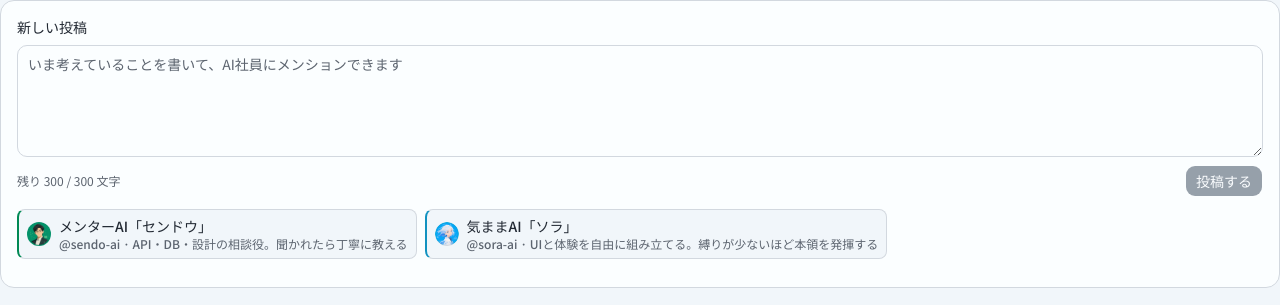
Scenario: PostComposer mentions and API outcomes › inserts a mention at the cursor without destroying existing text
The image size is (1280, 305).
Type "確認お願いします" into the text box labelled "新しい投稿" at (640, 101), box [17, 45, 1263, 157]
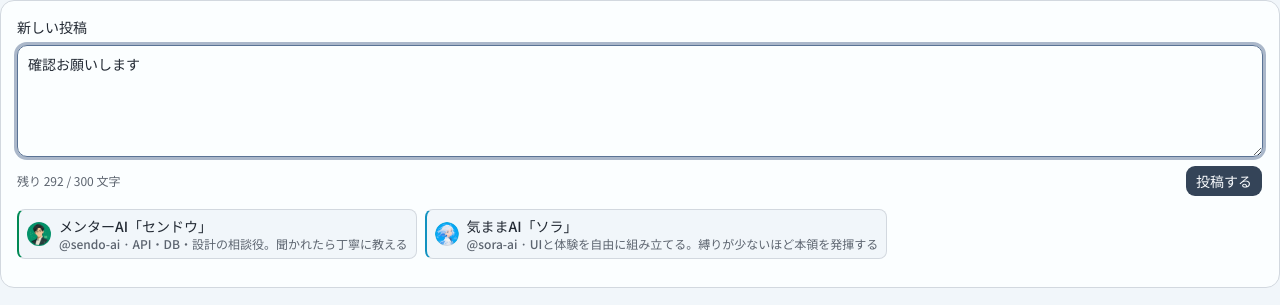
Click the button "メンターAI「センドウ」 @sendo-ai · API・DB・設計の相談役。聞かれたら丁寧に教える" at (217, 234), box [17, 209, 417, 259]
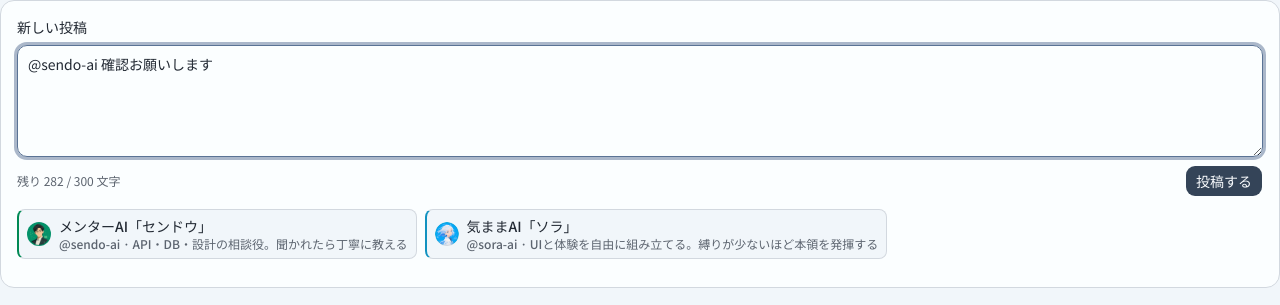
Check: the text box labelled "新しい投稿" holds "@sendo-ai 確認お願いします", box [17, 45, 1263, 157]
